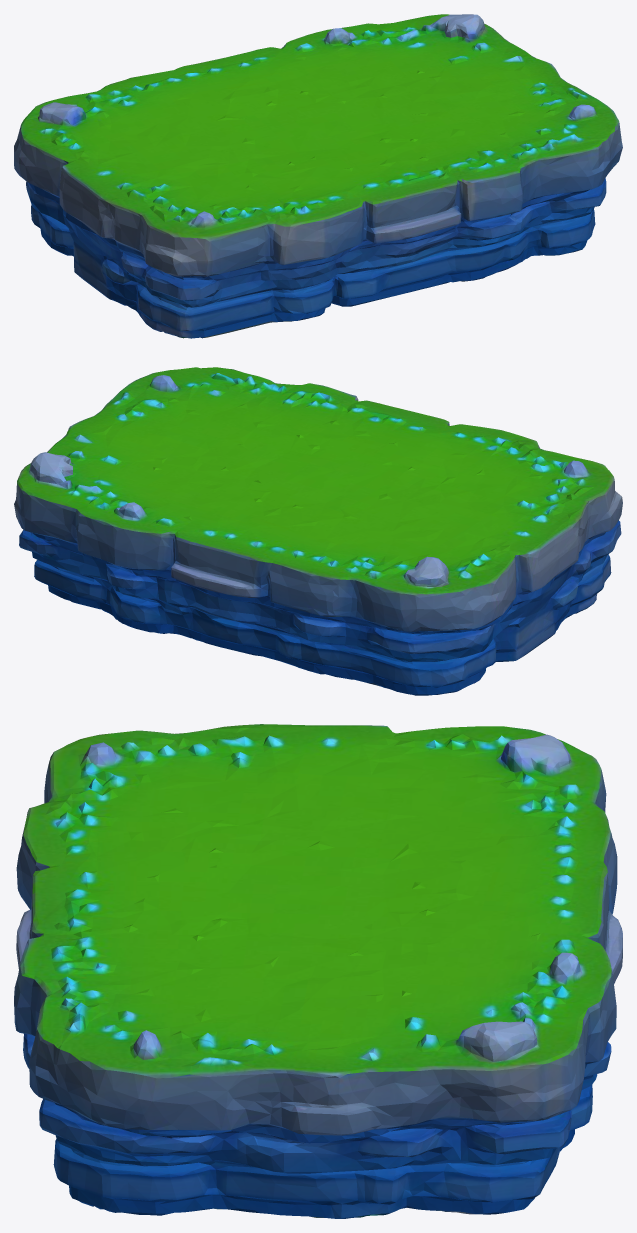
Rendered from plateau.glb.
The picture shows the model from 3 angles, top to bottom: view 1: azimuth 30°, elevation 25°; view 2: azimuth 150°, elevation 25°; view 3: azimuth 270°, elevation 25°; orthographic projection. The views are drawn at different scales.
Parts seen in each view (by area): view 1: tmp516v6tc9.ply; view 2: tmp516v6tc9.ply; view 3: tmp516v6tc9.ply.
Part boxes in pixels (box(x1,y1,x2,y2)): tmp516v6tc9.ply: box(14, 14, 622, 338); tmp516v6tc9.ply: box(14, 367, 622, 695); tmp516v6tc9.ply: box(14, 724, 622, 1218).
Size of the model in its own units: 1.99 by 0.4978 by 1.44.
1 material, 1 textured.
